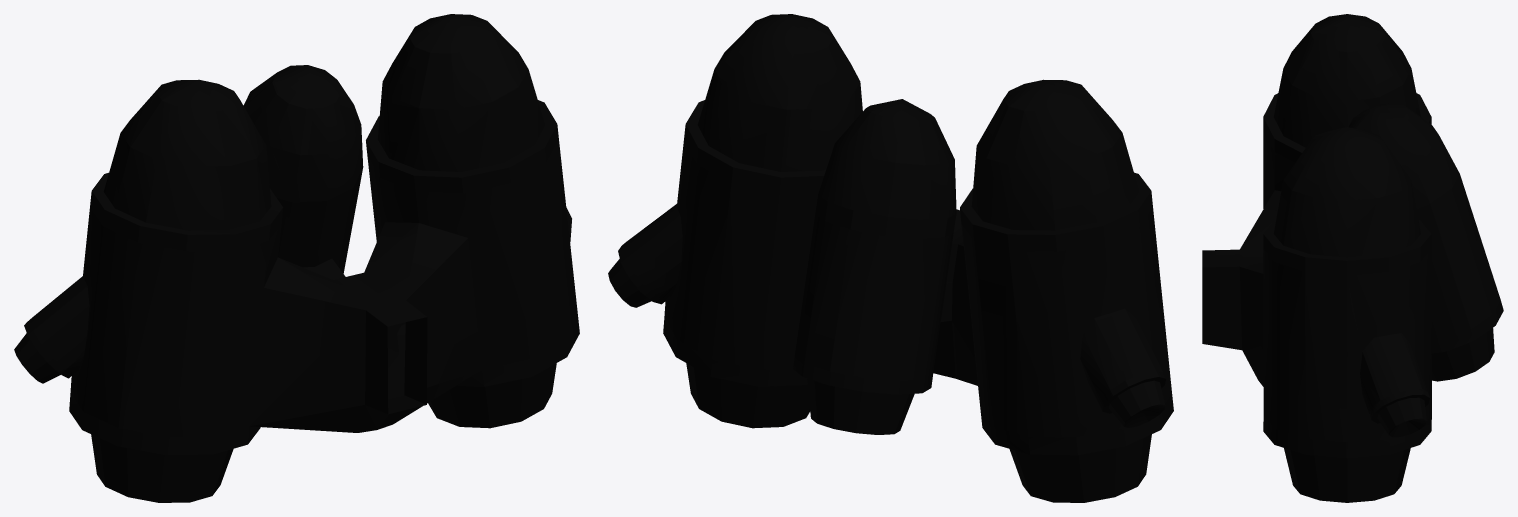
File: Rocketpack.fbx
The picture shows the model from 3 angles, left to right: view 1: azimuth 30°, elevation 25°; view 2: azimuth 150°, elevation 25°; view 3: azimuth 270°, elevation 25°; orthographic projection. The views are drawn at different scales.
Visible parts, largest first — view 1: Rocketpack; view 2: Rocketpack; view 3: Rocketpack.
Boxes of the visible parts, bbox=[...] form: Rocketpack: bbox=[14, 14, 579, 502]; Rocketpack: bbox=[608, 14, 1173, 502]; Rocketpack: bbox=[1202, 14, 1503, 502].
Bounding box in the file's own units: 768 × 528 × 417.
